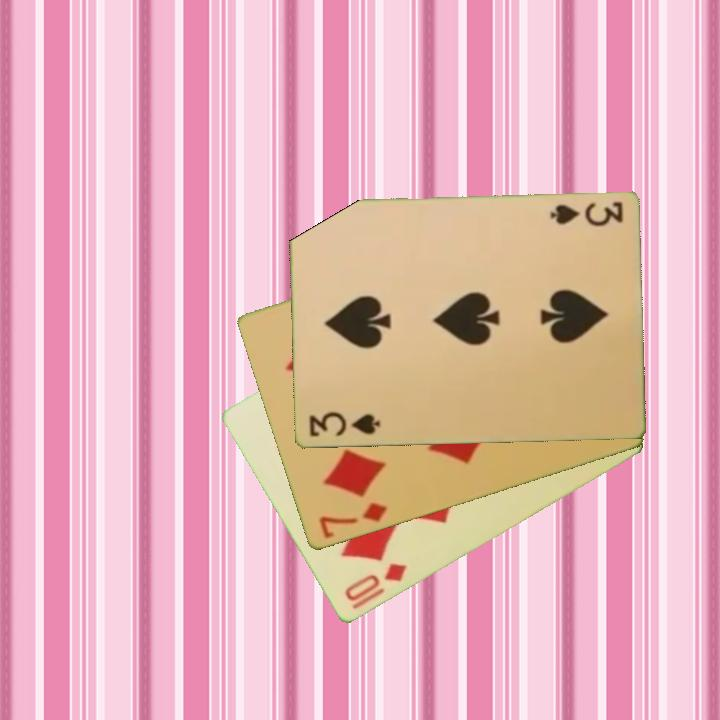10d: (341, 559, 410, 613)
3s: (546, 199, 625, 230), (305, 409, 383, 440)
7d: (315, 499, 390, 542)
